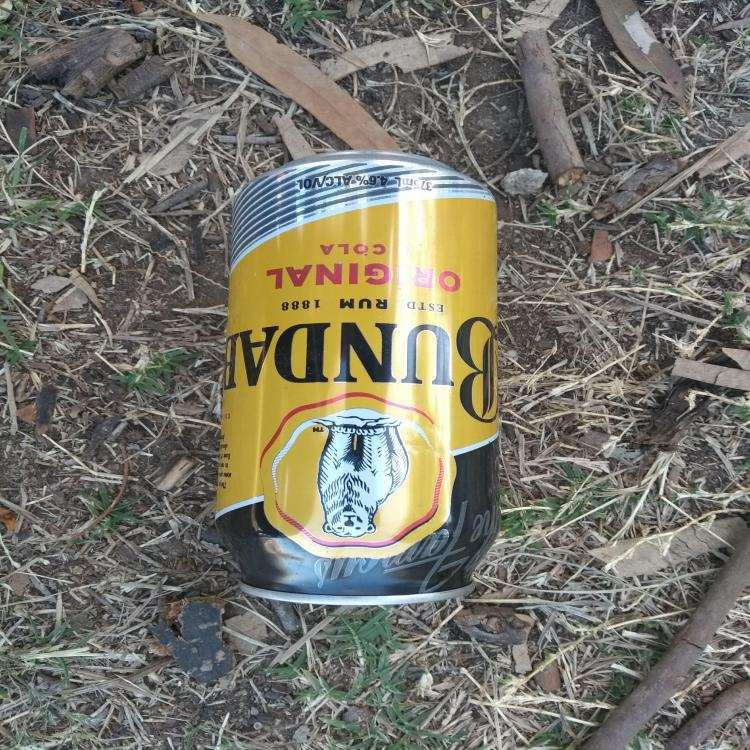Drink can: (215, 150, 500, 605)
